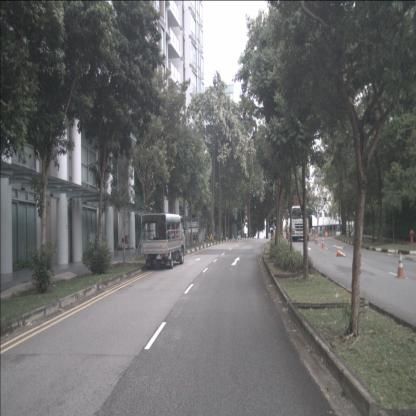movable_object-trafficcone: (395, 252, 406, 279), (337, 249, 346, 256), (321, 236, 325, 249), (313, 234, 315, 243), (315, 235, 317, 244)
vehicle-bicycle: (204, 230, 214, 243)
vehicle-truck: (141, 213, 186, 269), (290, 196, 310, 241)
